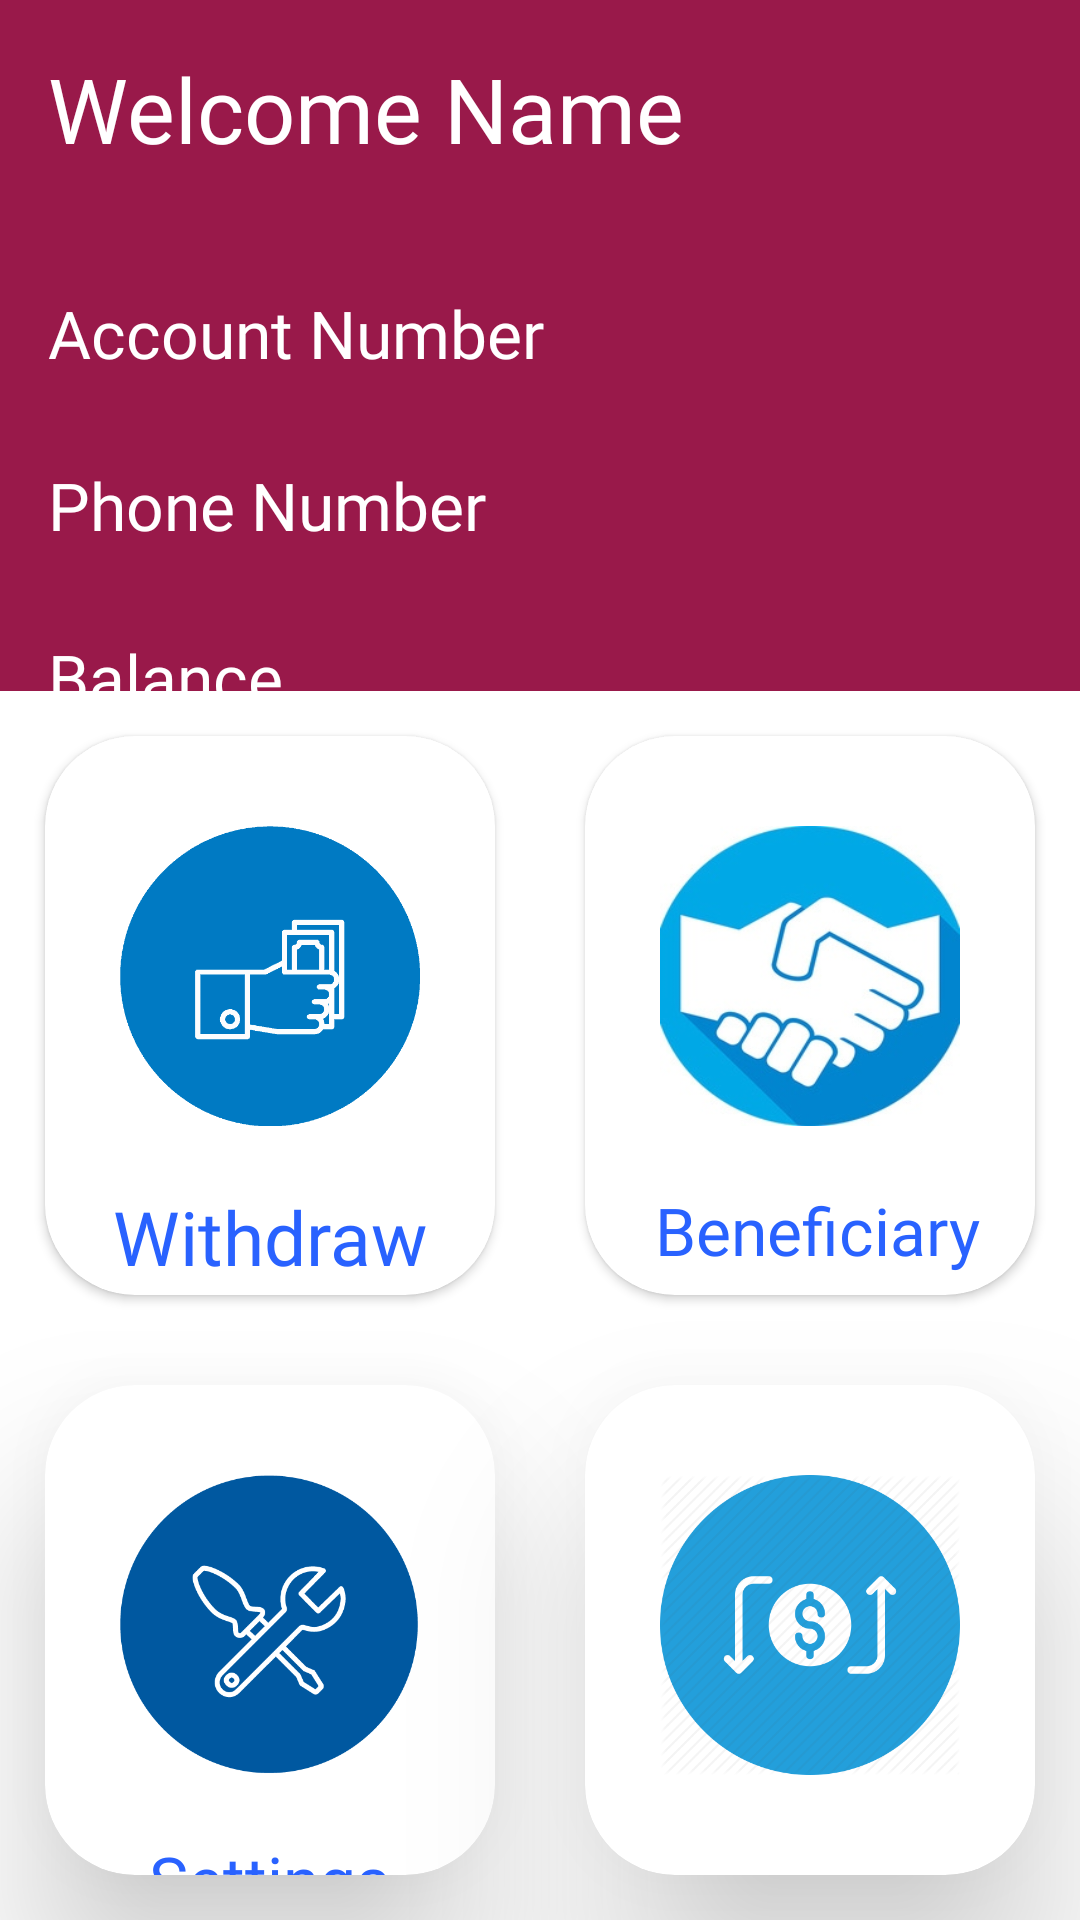

Point at icon controls on the screen. Image size 1080x1920, points as (x=x, y=y).
hist: (x=810, y=1625)
